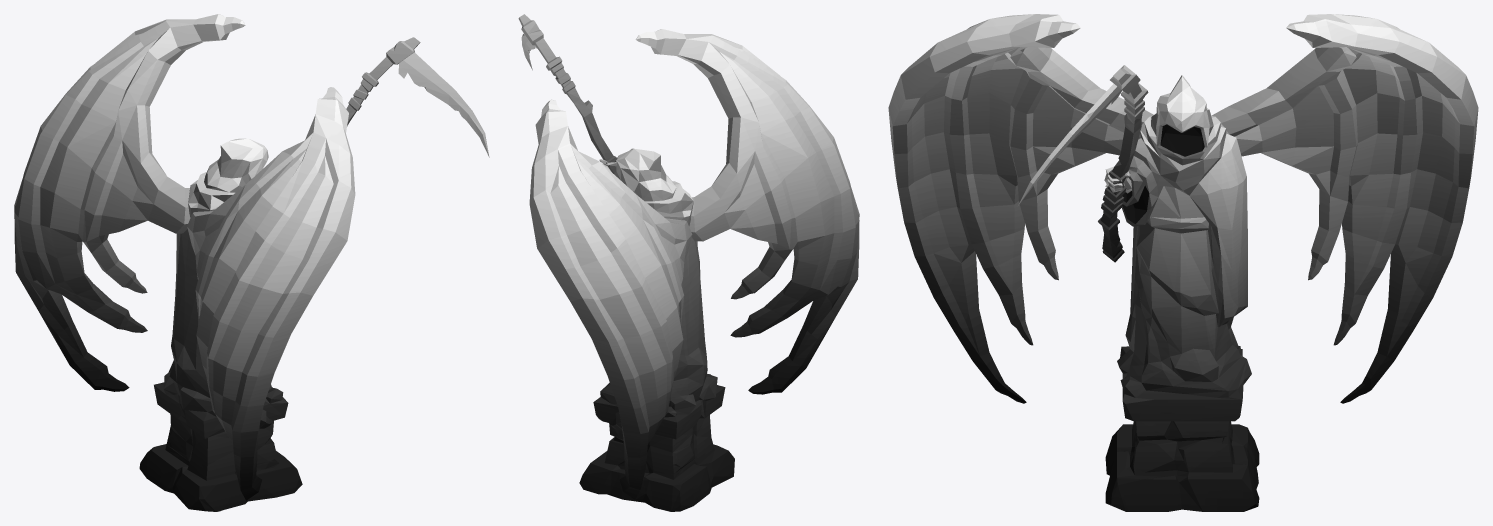
The model's file is sadan.fbx.
The picture shows the model from 3 angles, left to right: view 1: azimuth 30°, elevation 25°; view 2: azimuth 150°, elevation 25°; view 3: azimuth 270°, elevation 25°; orthographic projection. The views are drawn at different scales.
Visible parts, largest first — view 1: sadan; view 2: sadan; view 3: sadan.
Part boxes in pixels (box(x1,y1,x2,y2)): sadan: box(14, 14, 489, 511); sadan: box(518, 14, 859, 511); sadan: box(888, 14, 1478, 511).
Size of the model in its own units: 735 by 956 by 1007.
